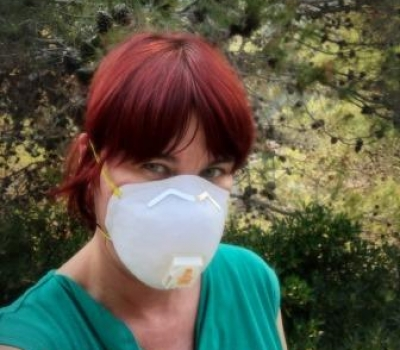n95: (97, 173, 237, 294)
